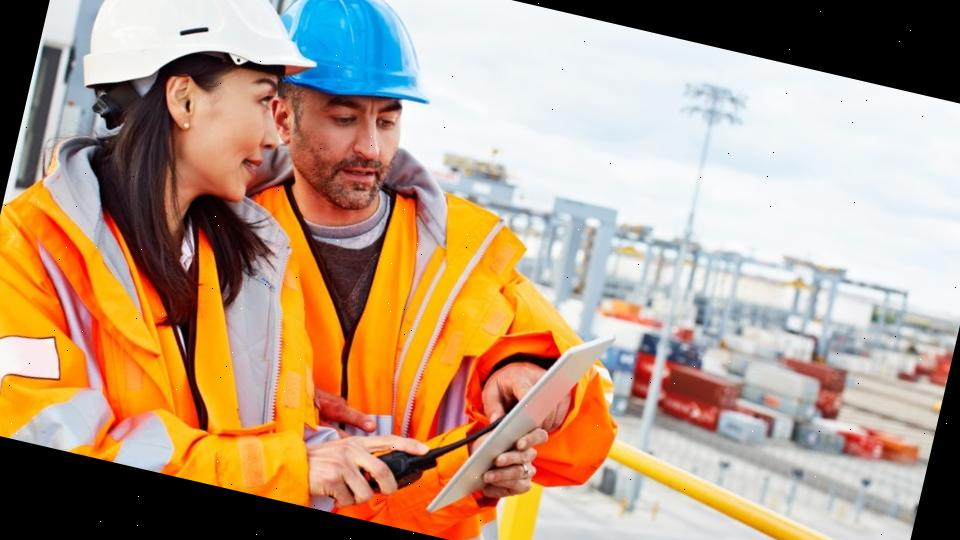helmet: (72, 0, 336, 142), (265, 0, 451, 123)
wear: (224, 185, 578, 540), (0, 159, 304, 492)
